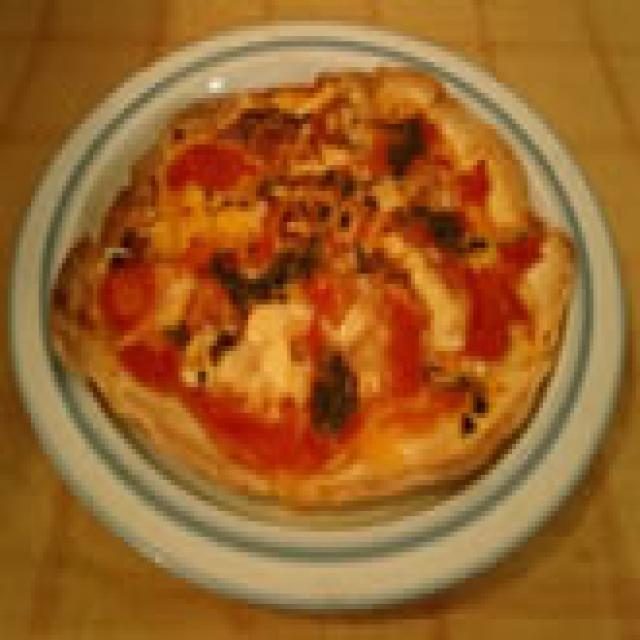汉堡快餐: (46, 46, 578, 511)
